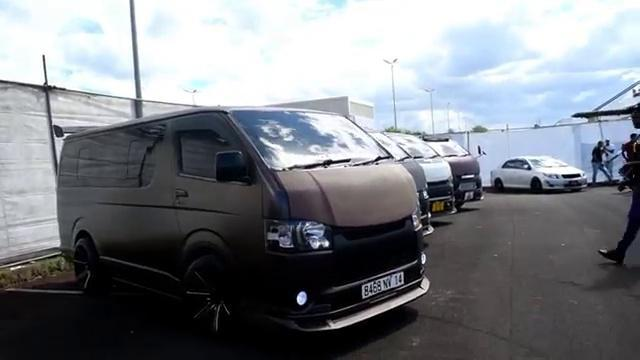van: (54, 108, 437, 335)
